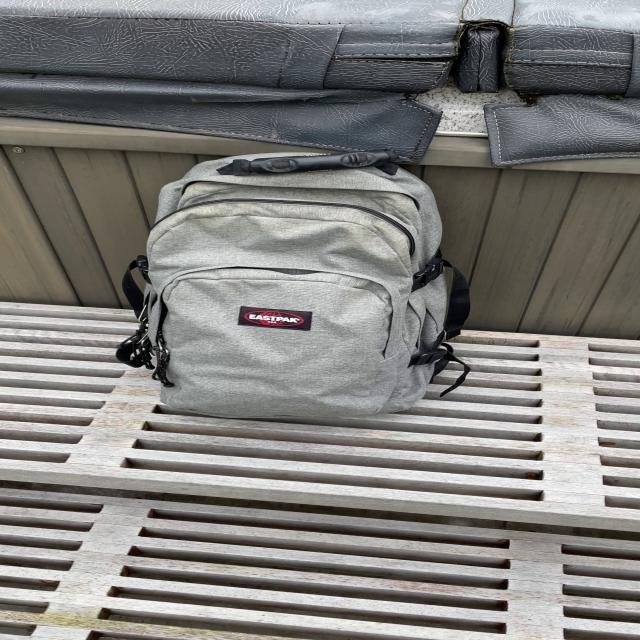backpack: (115, 144, 480, 412)
